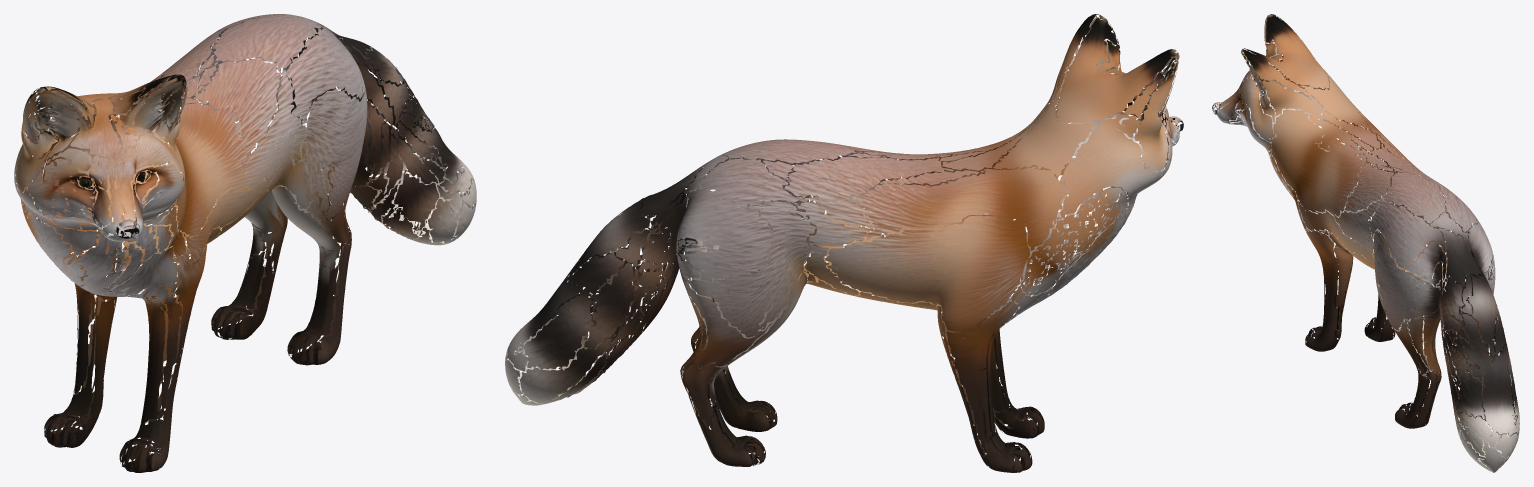
Rendered from fox.glb.
3 renders of one model, left to right at view 1: azimuth 30°, elevation 25°; view 2: azimuth 150°, elevation 25°; view 3: azimuth 270°, elevation 25°, orthographic. The views are drawn at different scales.
Parts seen in each view (by area): view 1: node_0; view 2: node_0; view 3: node_0.
Boxes of the visible parts, x1=… form: node_0: x1=14, y1=14, x2=476, y2=472; node_0: x1=505, y1=14, x2=1183, y2=472; node_0: x1=1212, y1=14, x2=1519, y2=472.
Bounding box in the file's own units: 0.9403 × 0.6584 × 0.6351.
Materials: 1 (1 with a texture image).
